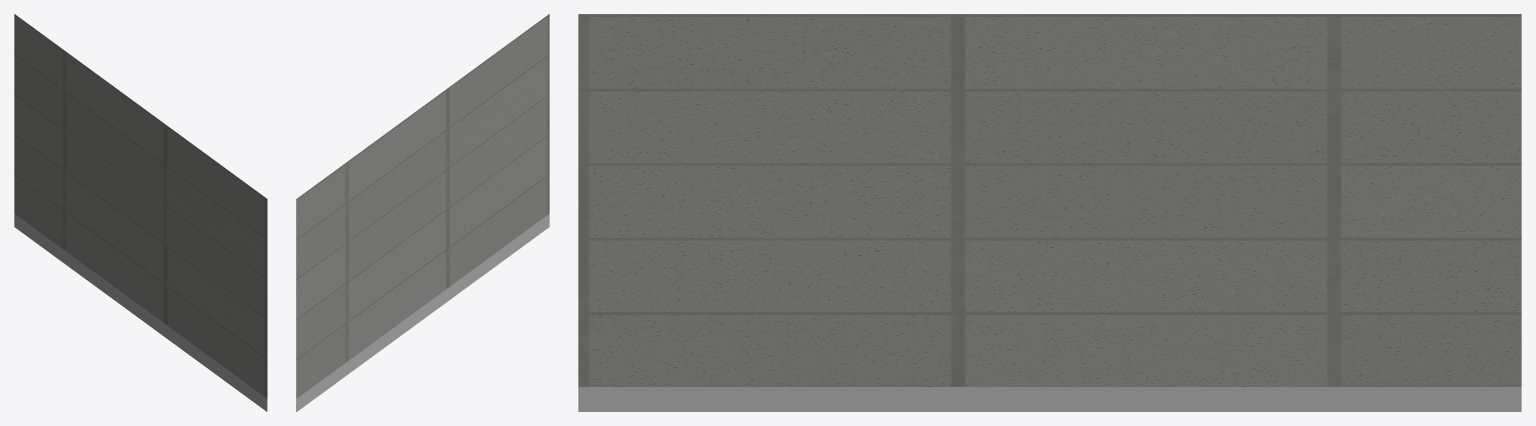
Rendered from parete_solida.fbx.
The picture shows the model from 3 angles, left to right: view 1: azimuth 30°, elevation 25°; view 2: azimuth 150°, elevation 25°; view 3: azimuth 270°, elevation 25°; orthographic projection. The views are drawn at different scales.
Visible parts, largest first — view 1: Plane.003; view 2: Plane.003; view 3: Plane.003.
Part boxes in pixels (x1,y1,x2,y2): Plane.003: [14, 14, 267, 411]; Plane.003: [296, 14, 549, 411]; Plane.003: [578, 14, 1521, 411].
Bounding box in the file's own units: 1 × 400 × 860.
